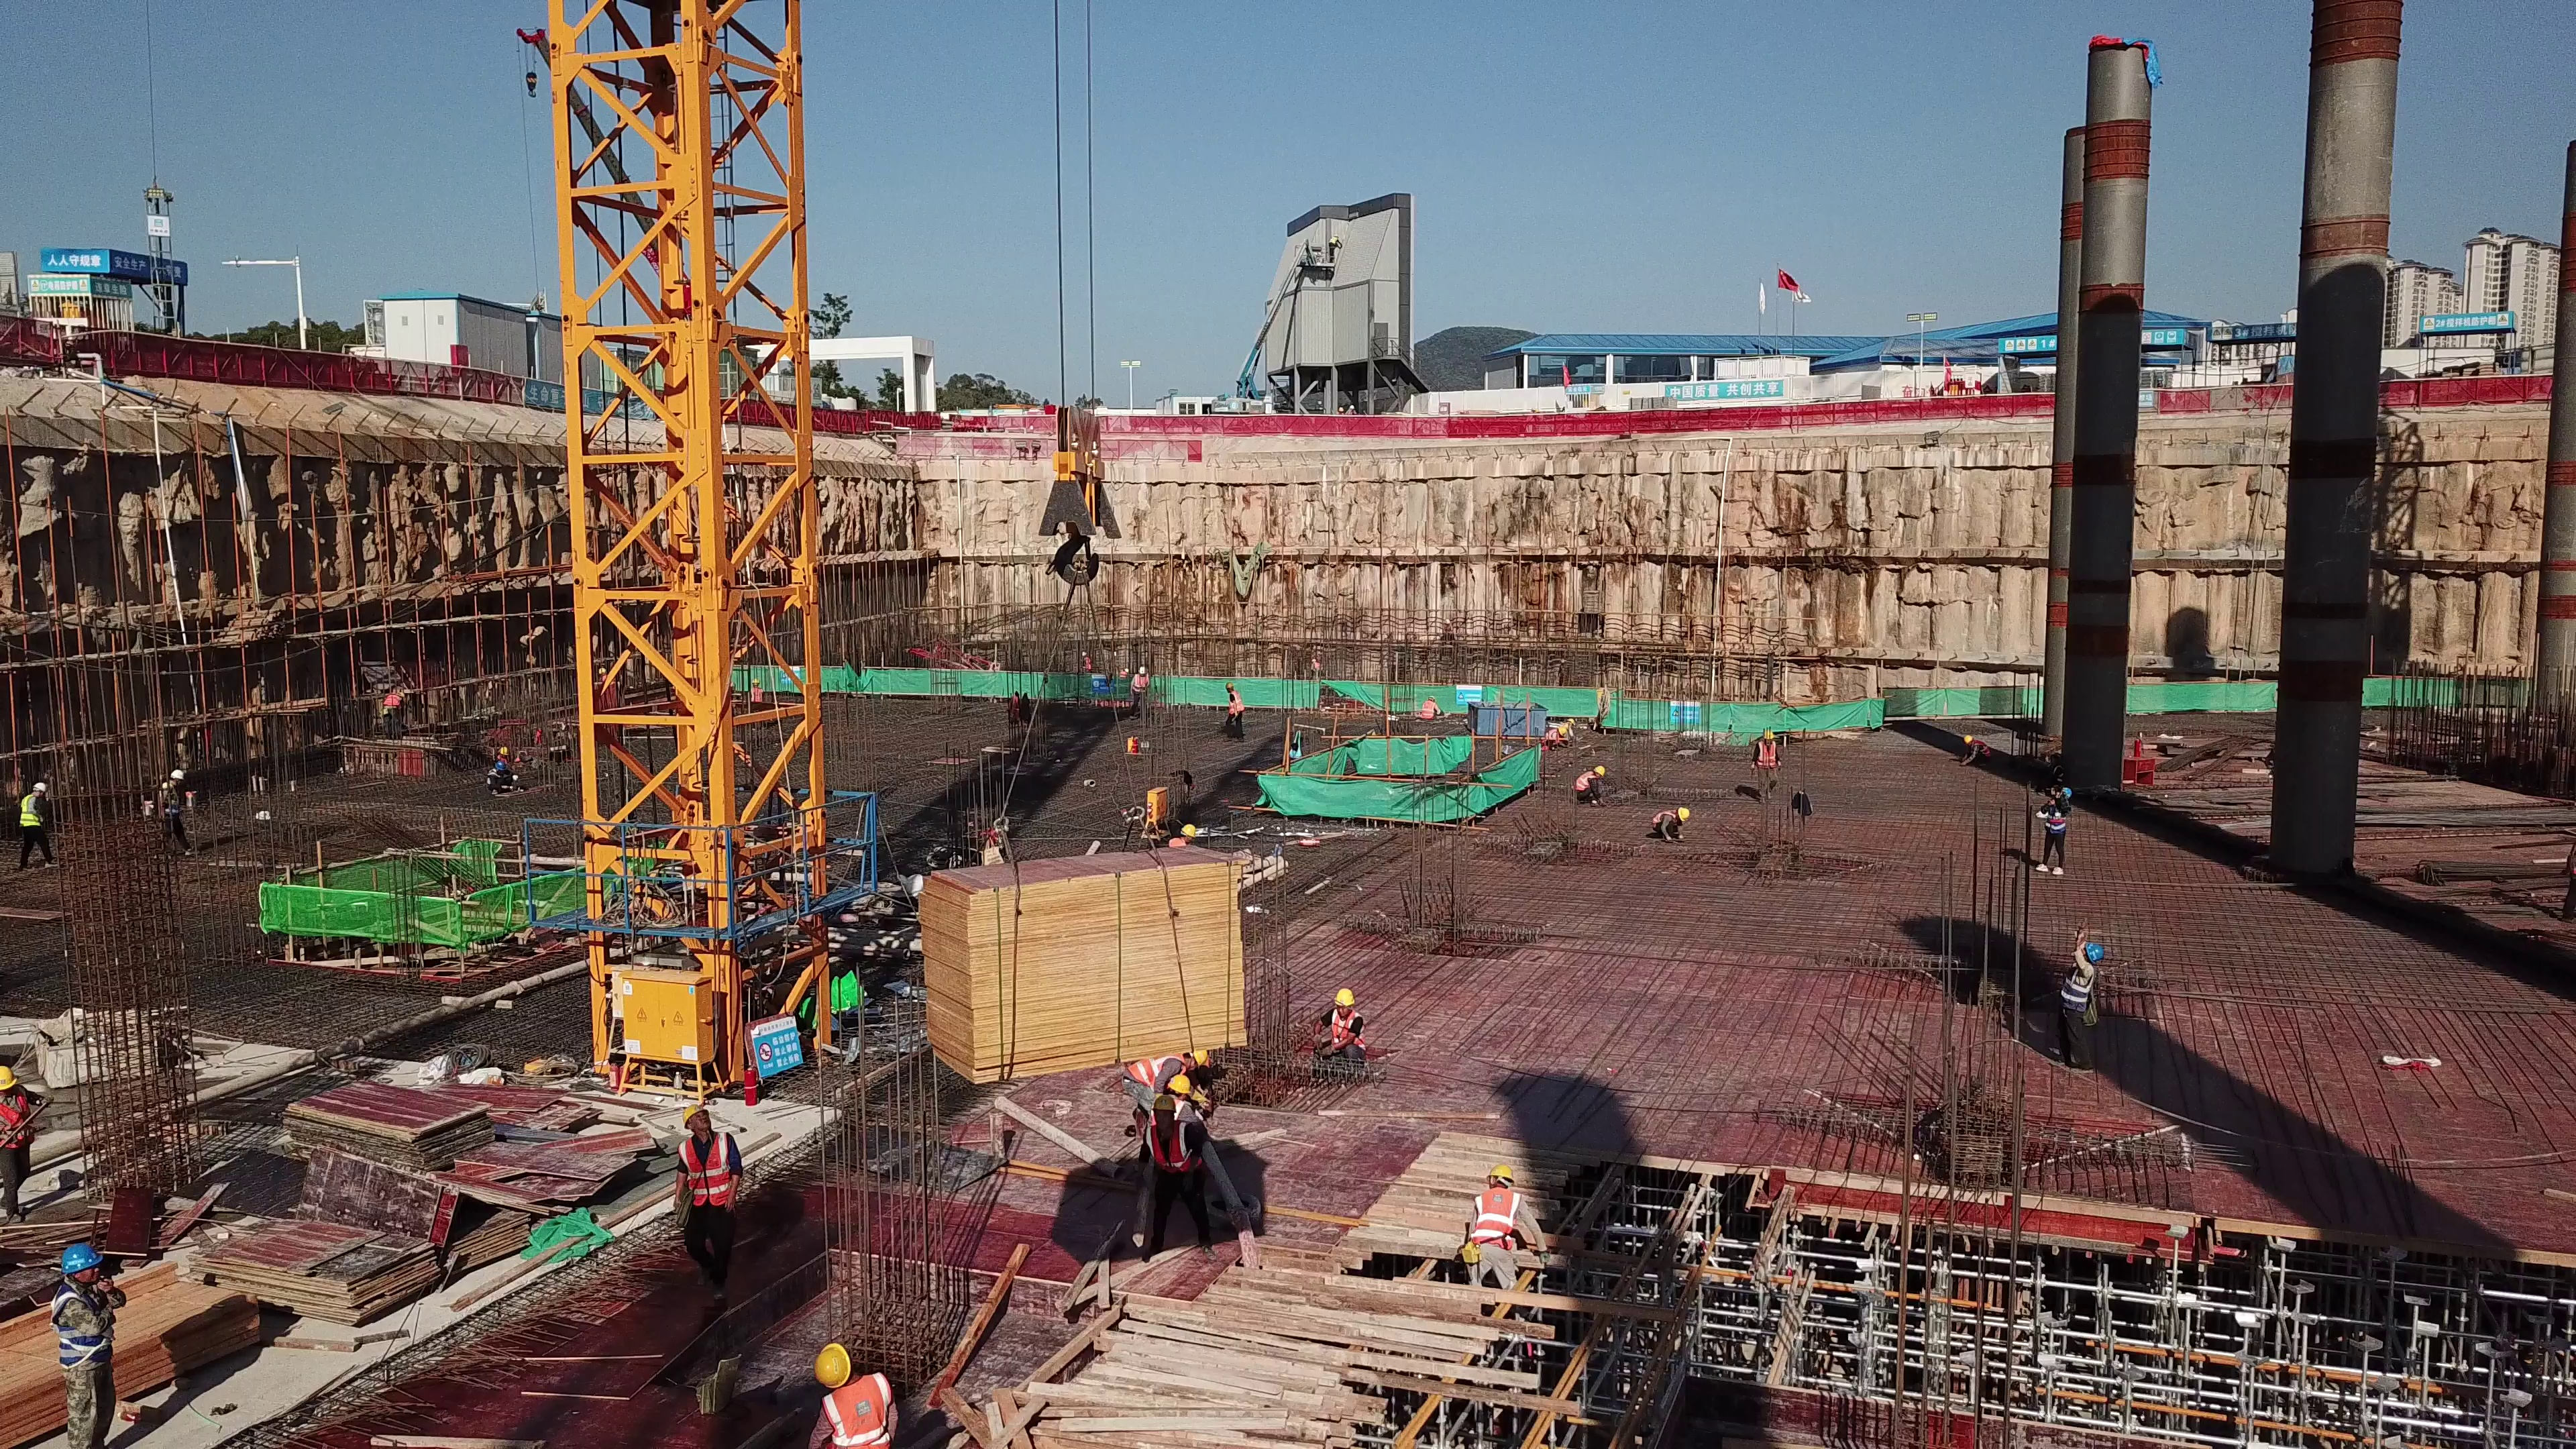helmet: (812, 1340, 855, 1383), (58, 1244, 103, 1270), (1475, 1163, 1519, 1181), (1164, 1072, 1193, 1093), (676, 1102, 711, 1118), (1148, 1094, 1177, 1113), (1, 1066, 19, 1091), (1179, 816, 1203, 836), (1187, 1049, 1211, 1069), (2088, 943, 2106, 965), (1675, 806, 1695, 824), (1330, 993, 1357, 1005), (1961, 735, 1976, 750), (2059, 786, 2075, 800), (1591, 763, 1605, 779), (1762, 726, 1775, 744), (1136, 666, 1150, 679), (1223, 682, 1239, 694)
person: (667, 1100, 752, 1314), (1140, 1091, 1220, 1265), (53, 1244, 126, 1415), (799, 1342, 910, 1449), (1461, 1161, 1553, 1282), (2058, 920, 2111, 1080), (1112, 1045, 1231, 1095), (1317, 989, 1380, 1070), (1, 1064, 32, 1222), (2038, 779, 2083, 879), (15, 778, 61, 870), (155, 768, 195, 852), (1750, 727, 1781, 812), (478, 762, 534, 800), (1218, 680, 1248, 751), (1643, 807, 1693, 847), (1570, 761, 1607, 815), (1131, 662, 1159, 716), (1163, 819, 1202, 858), (1953, 734, 1992, 771), (745, 675, 767, 735), (379, 686, 413, 724), (1544, 716, 1578, 754), (1415, 696, 1448, 727), (1075, 651, 1098, 681), (598, 659, 616, 688), (1307, 657, 1327, 678), (1114, 665, 1129, 685)
vest: (57, 1285, 120, 1393), (684, 1137, 739, 1211), (830, 1388, 892, 1449), (1470, 1189, 1516, 1248), (2065, 963, 2101, 1018), (1152, 1124, 1196, 1170), (3, 1088, 28, 1157), (1327, 1012, 1368, 1052), (1755, 742, 1779, 772), (2047, 800, 2068, 831), (1574, 771, 1593, 796), (1649, 807, 1676, 825), (1226, 694, 1246, 717), (1976, 739, 1993, 760), (1133, 674, 1150, 694), (1424, 700, 1439, 722), (1544, 729, 1560, 747)
